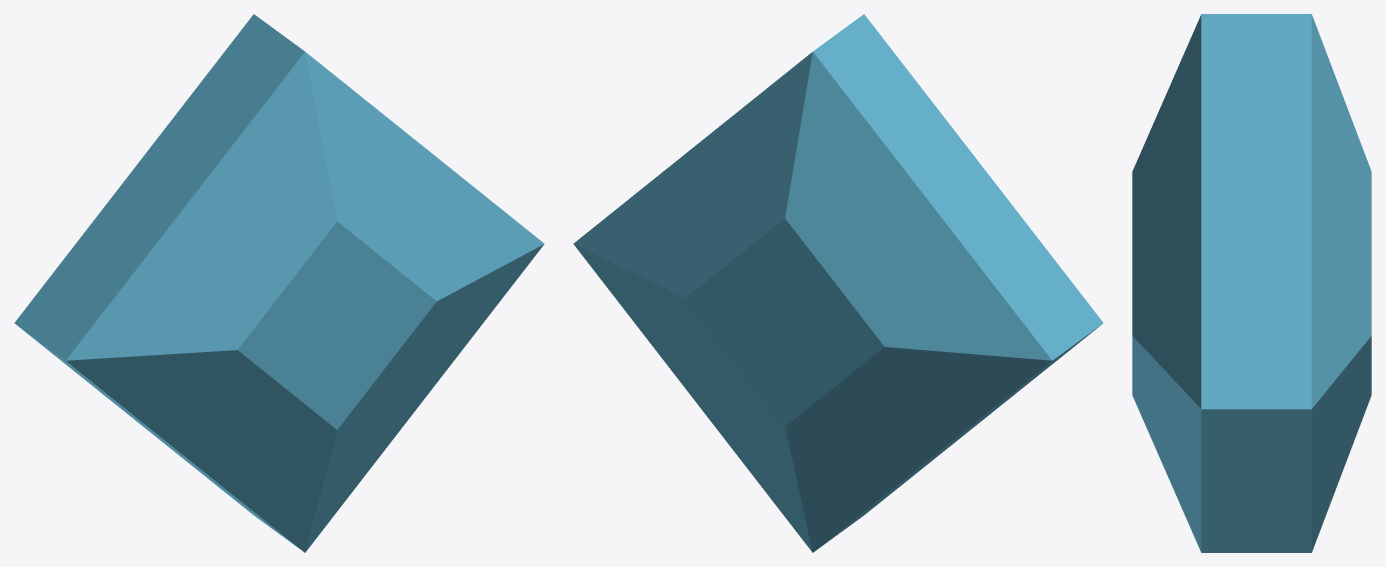
The model's file is GemaAzul_tier1.fbx.
The picture shows the model from 3 angles, left to right: view 1: azimuth 30°, elevation 25°; view 2: azimuth 150°, elevation 25°; view 3: azimuth 270°, elevation 25°; orthographic projection. The views are drawn at different scales.
Parts seen in each view (by area): view 1: GemaAzul01; view 2: GemaAzul01; view 3: GemaAzul01.
Part boxes in pixels (x1=…): GemaAzul01: x1=14, y1=14, x2=544, y2=552; GemaAzul01: x1=573, y1=14, x2=1103, y2=552; GemaAzul01: x1=1132, y1=14, x2=1371, y2=552.
Size of the model in its own units: 61.2 by 61.2 by 24.6.
